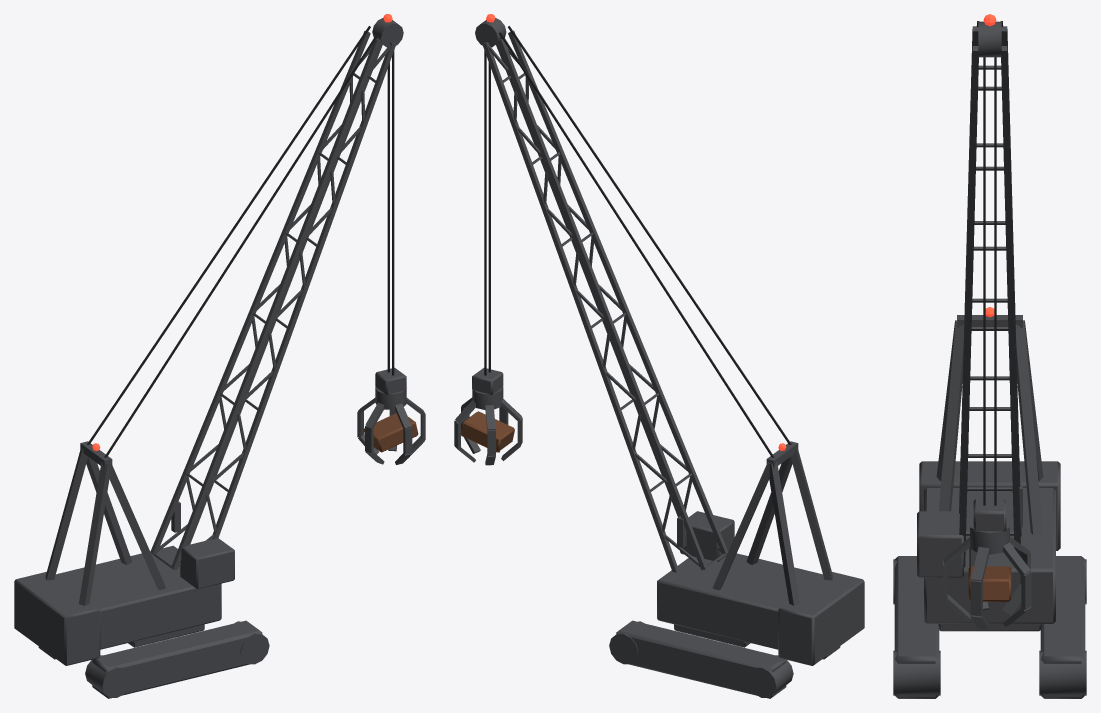
Rendered from crane_skyline.glb.
3 renders of one model, left to right at view 1: azimuth 30°, elevation 25°; view 2: azimuth 150°, elevation 25°; view 3: azimuth 270°, elevation 25°, orthographic. The views are drawn at different scales.
Visible parts, largest first — view 1: crane_skyline; view 2: crane_skyline; view 3: crane_skyline.
Boxes of the visible parts, x1,y1,x2,y2 form: crane_skyline: (14, 14, 425, 698); crane_skyline: (454, 14, 864, 698); crane_skyline: (893, 14, 1086, 698).
Bounding box in the file's own units: 12.69 × 18.55 × 4.1.
